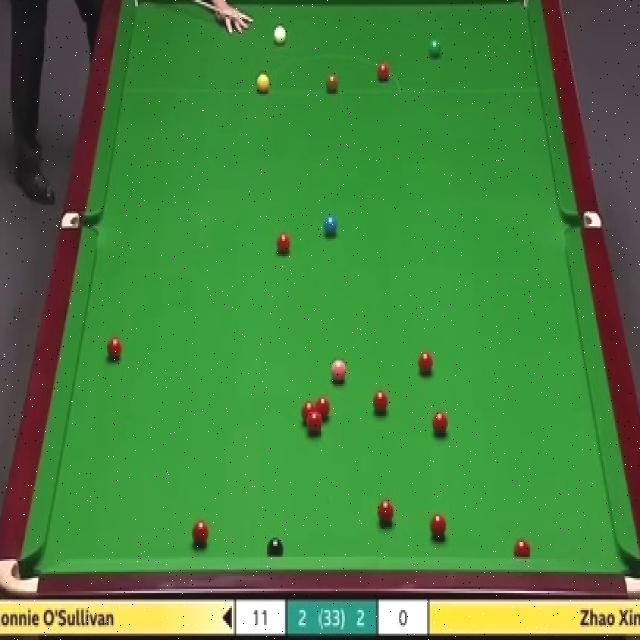black-ball: (265, 534, 283, 556)
blue-ball: (322, 215, 339, 237)
brown-ball: (326, 70, 338, 92)
green-ball: (426, 36, 442, 59)
pink-ball: (330, 359, 348, 386)
red-ball: (275, 231, 295, 257), (432, 409, 449, 439), (376, 499, 394, 525), (106, 337, 122, 366), (430, 516, 449, 539), (512, 539, 534, 558), (373, 388, 389, 414), (191, 522, 208, 546), (301, 401, 316, 427), (316, 396, 330, 422), (307, 414, 323, 436), (375, 60, 391, 82), (418, 352, 433, 373)
white-ball: (272, 23, 288, 46)
yellow-ball: (255, 73, 271, 93)
